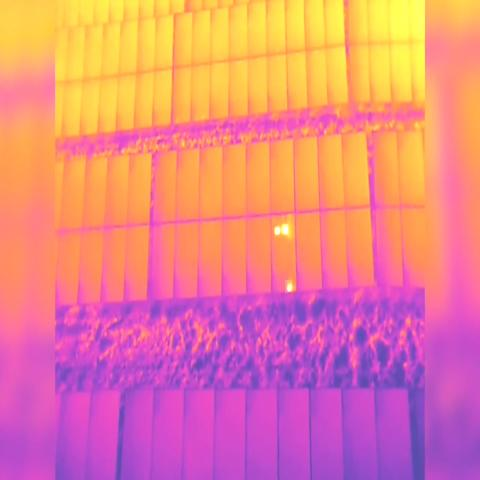fault: (286, 280, 294, 293), (273, 224, 280, 236), (281, 224, 288, 234)
